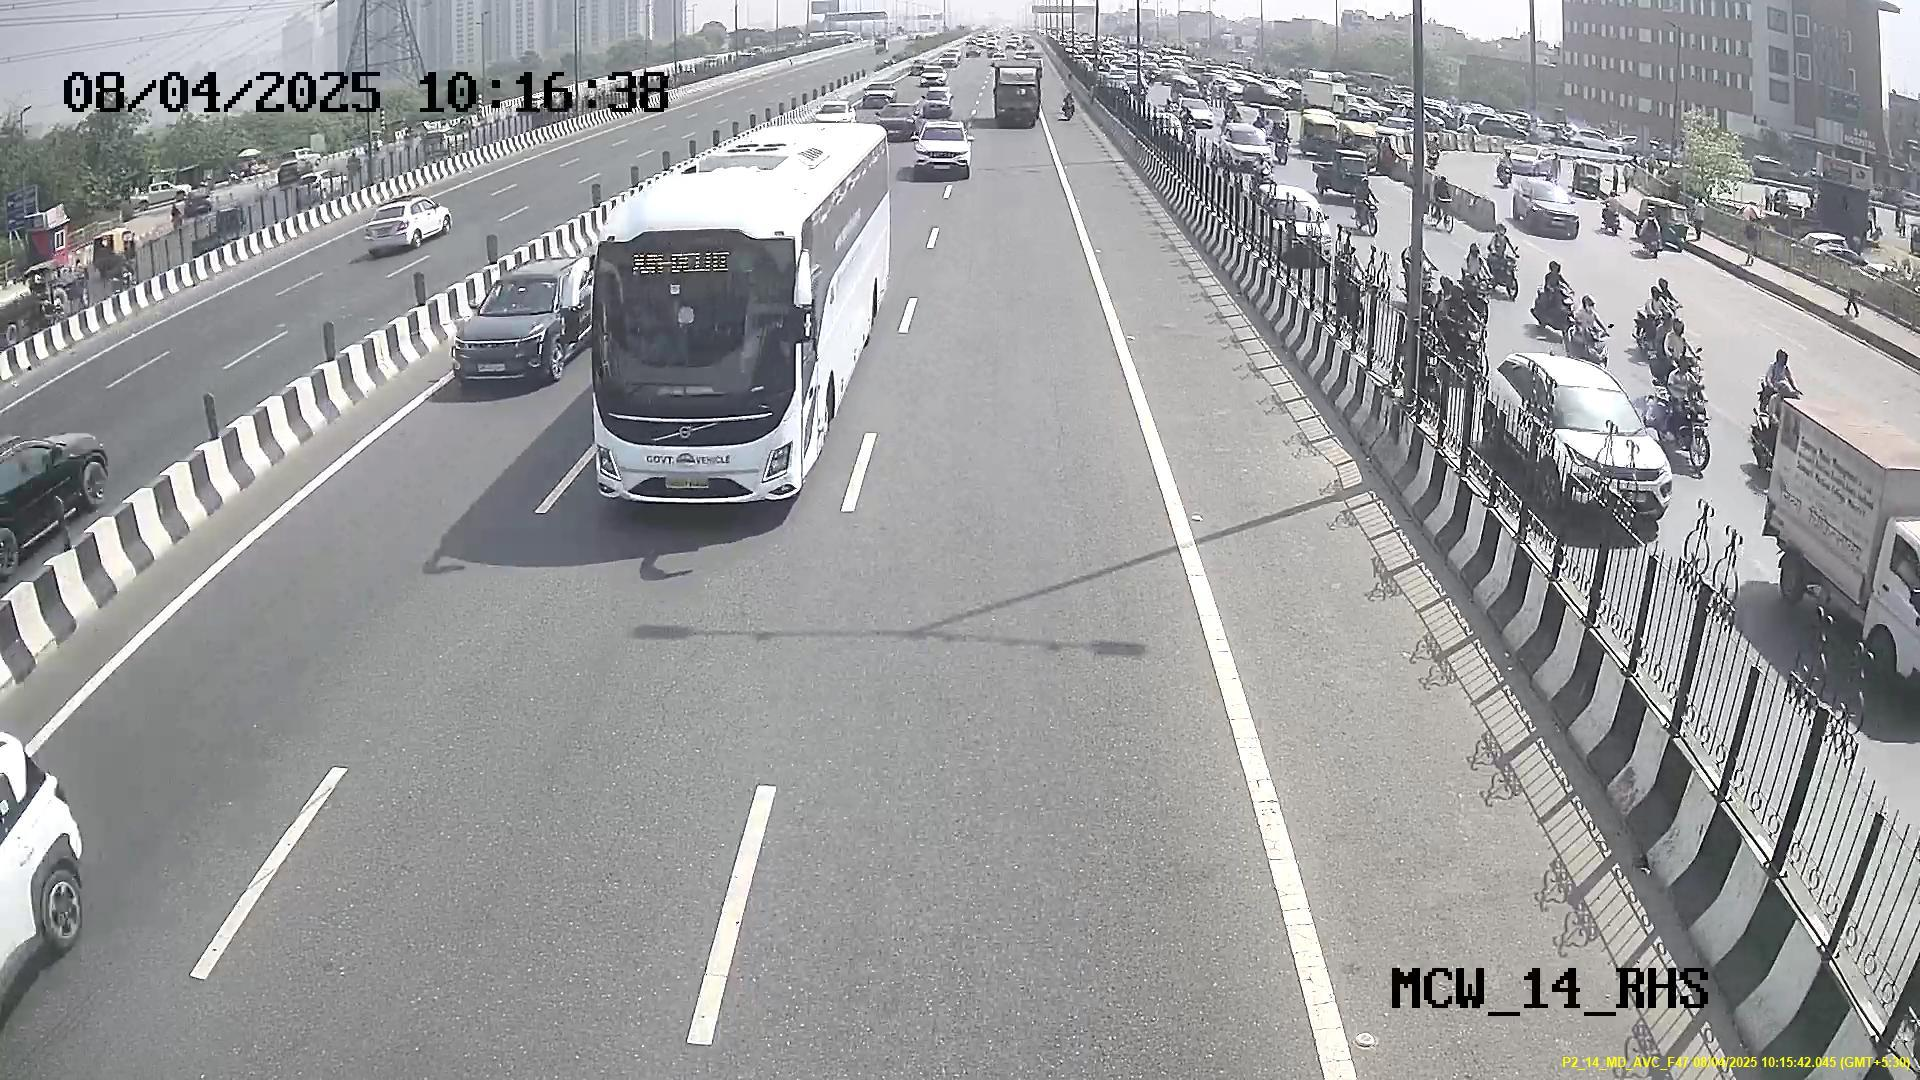bus: (592, 166, 864, 520)
car: (447, 266, 578, 388)
